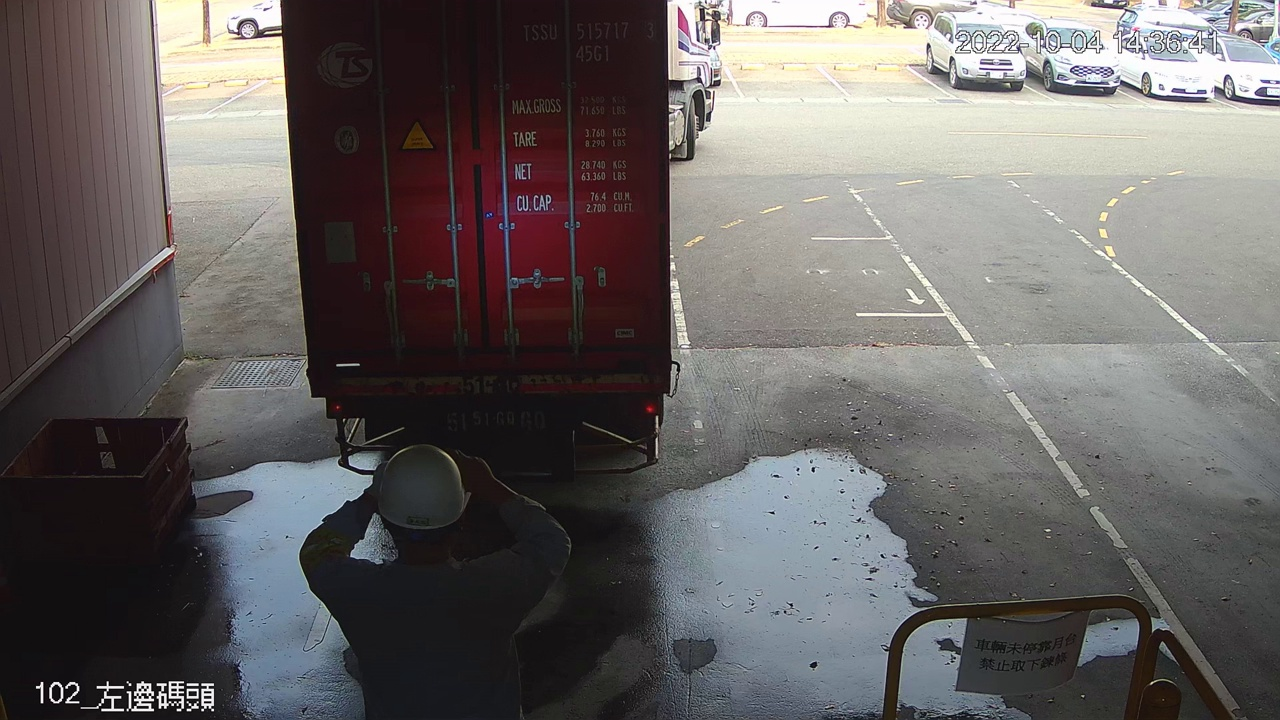container: (517, 14, 662, 68)
